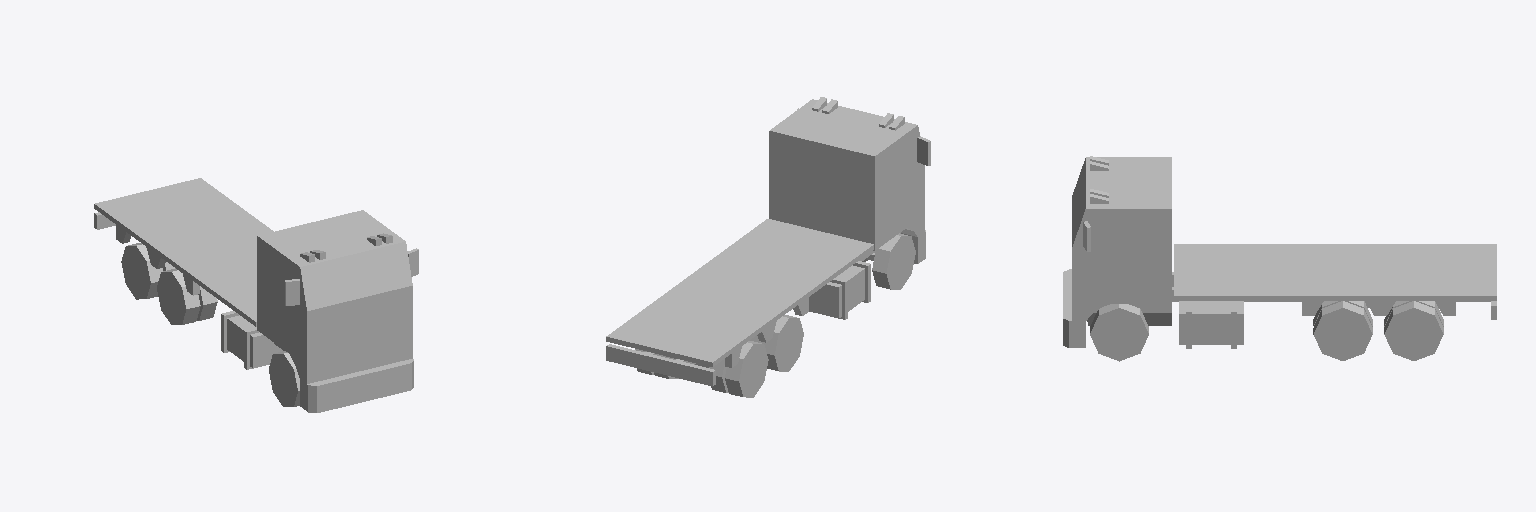
File: Veh_Truck_03_Flat_Blue.obj
3 renders of one model, left to right at view 1: azimuth 30°, elevation 25°; view 2: azimuth 150°, elevation 25°; view 3: azimuth 270°, elevation 25°, orthographic.
Bounding box in the file's own units: 1.68 × 1.92 × 4.74.